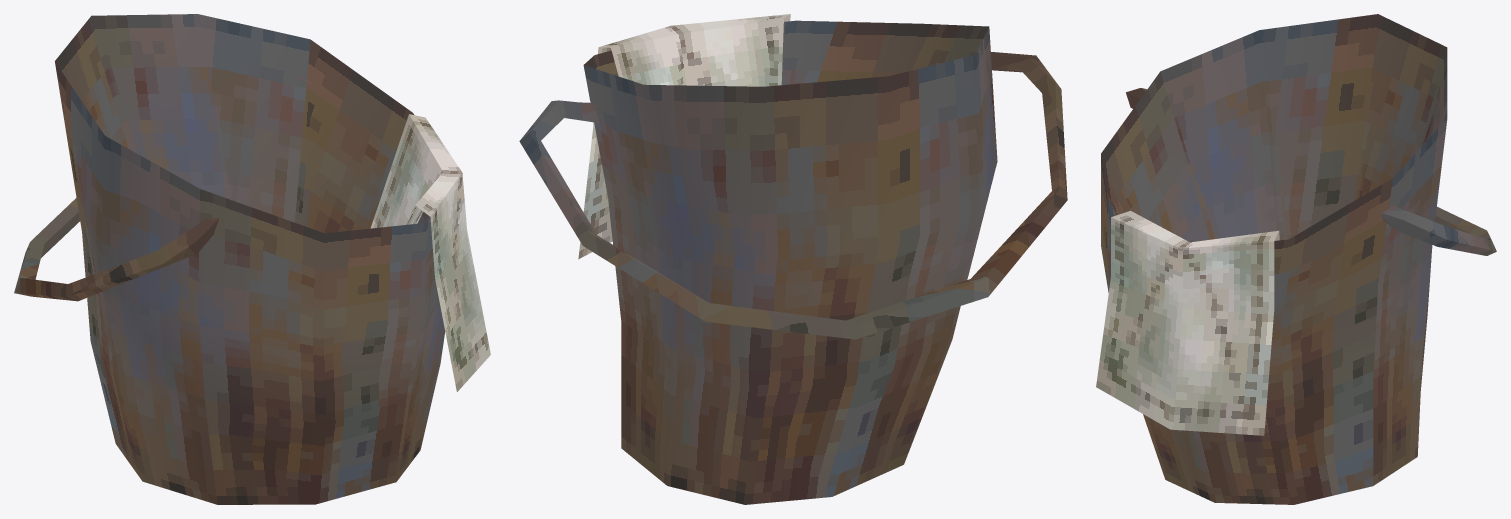
Rendered from bake5.glb.
3 renders of one model, left to right at view 1: azimuth 30°, elevation 25°; view 2: azimuth 150°, elevation 25°; view 3: azimuth 270°, elevation 25°, orthographic. The views are drawn at different scales.
Visible parts, largest first — view 1: bake5; view 2: bake5; view 3: bake5.
Part boxes in pixels (x1,y1,x2,y2): bake5: (14,14,490,504); bake5: (519,14,1067,504); bake5: (1096,14,1496,504).
Size of the model in its own units: 89 by 81 by 81.
Materials: 3 (3 with a texture image).
